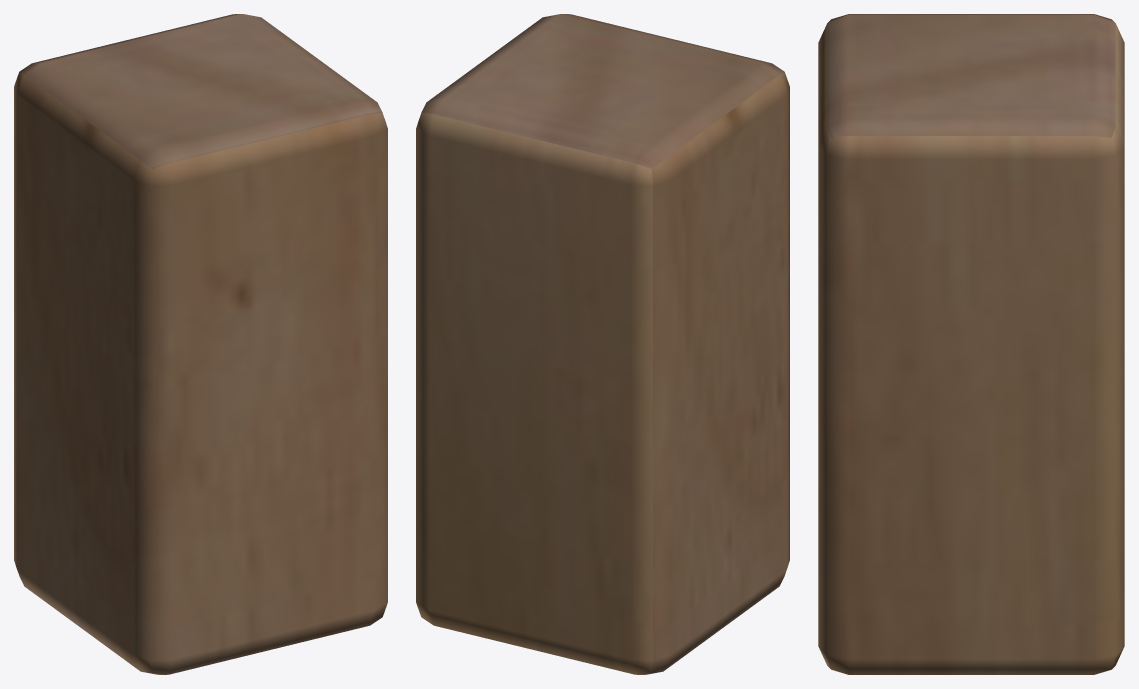
Rendered from WoodCubeFBX.fbx.
3 views of the same model, side by side, from view 1: azimuth 30°, elevation 25°; view 2: azimuth 150°, elevation 25°; view 3: azimuth 270°, elevation 25° (orthographic). The views are drawn at different scales.
Visible parts, largest first — view 1: pCube1; view 2: pCube1; view 3: pCube1.
Part boxes in pixels (x1=…): pCube1: x1=14, y1=14, x2=387, y2=674; pCube1: x1=416, y1=14, x2=789, y2=674; pCube1: x1=818, y1=14, x2=1124, y2=674.
Bounding box in the file's own units: 3.5 × 7 × 3.5.
1 material, 1 textured.
